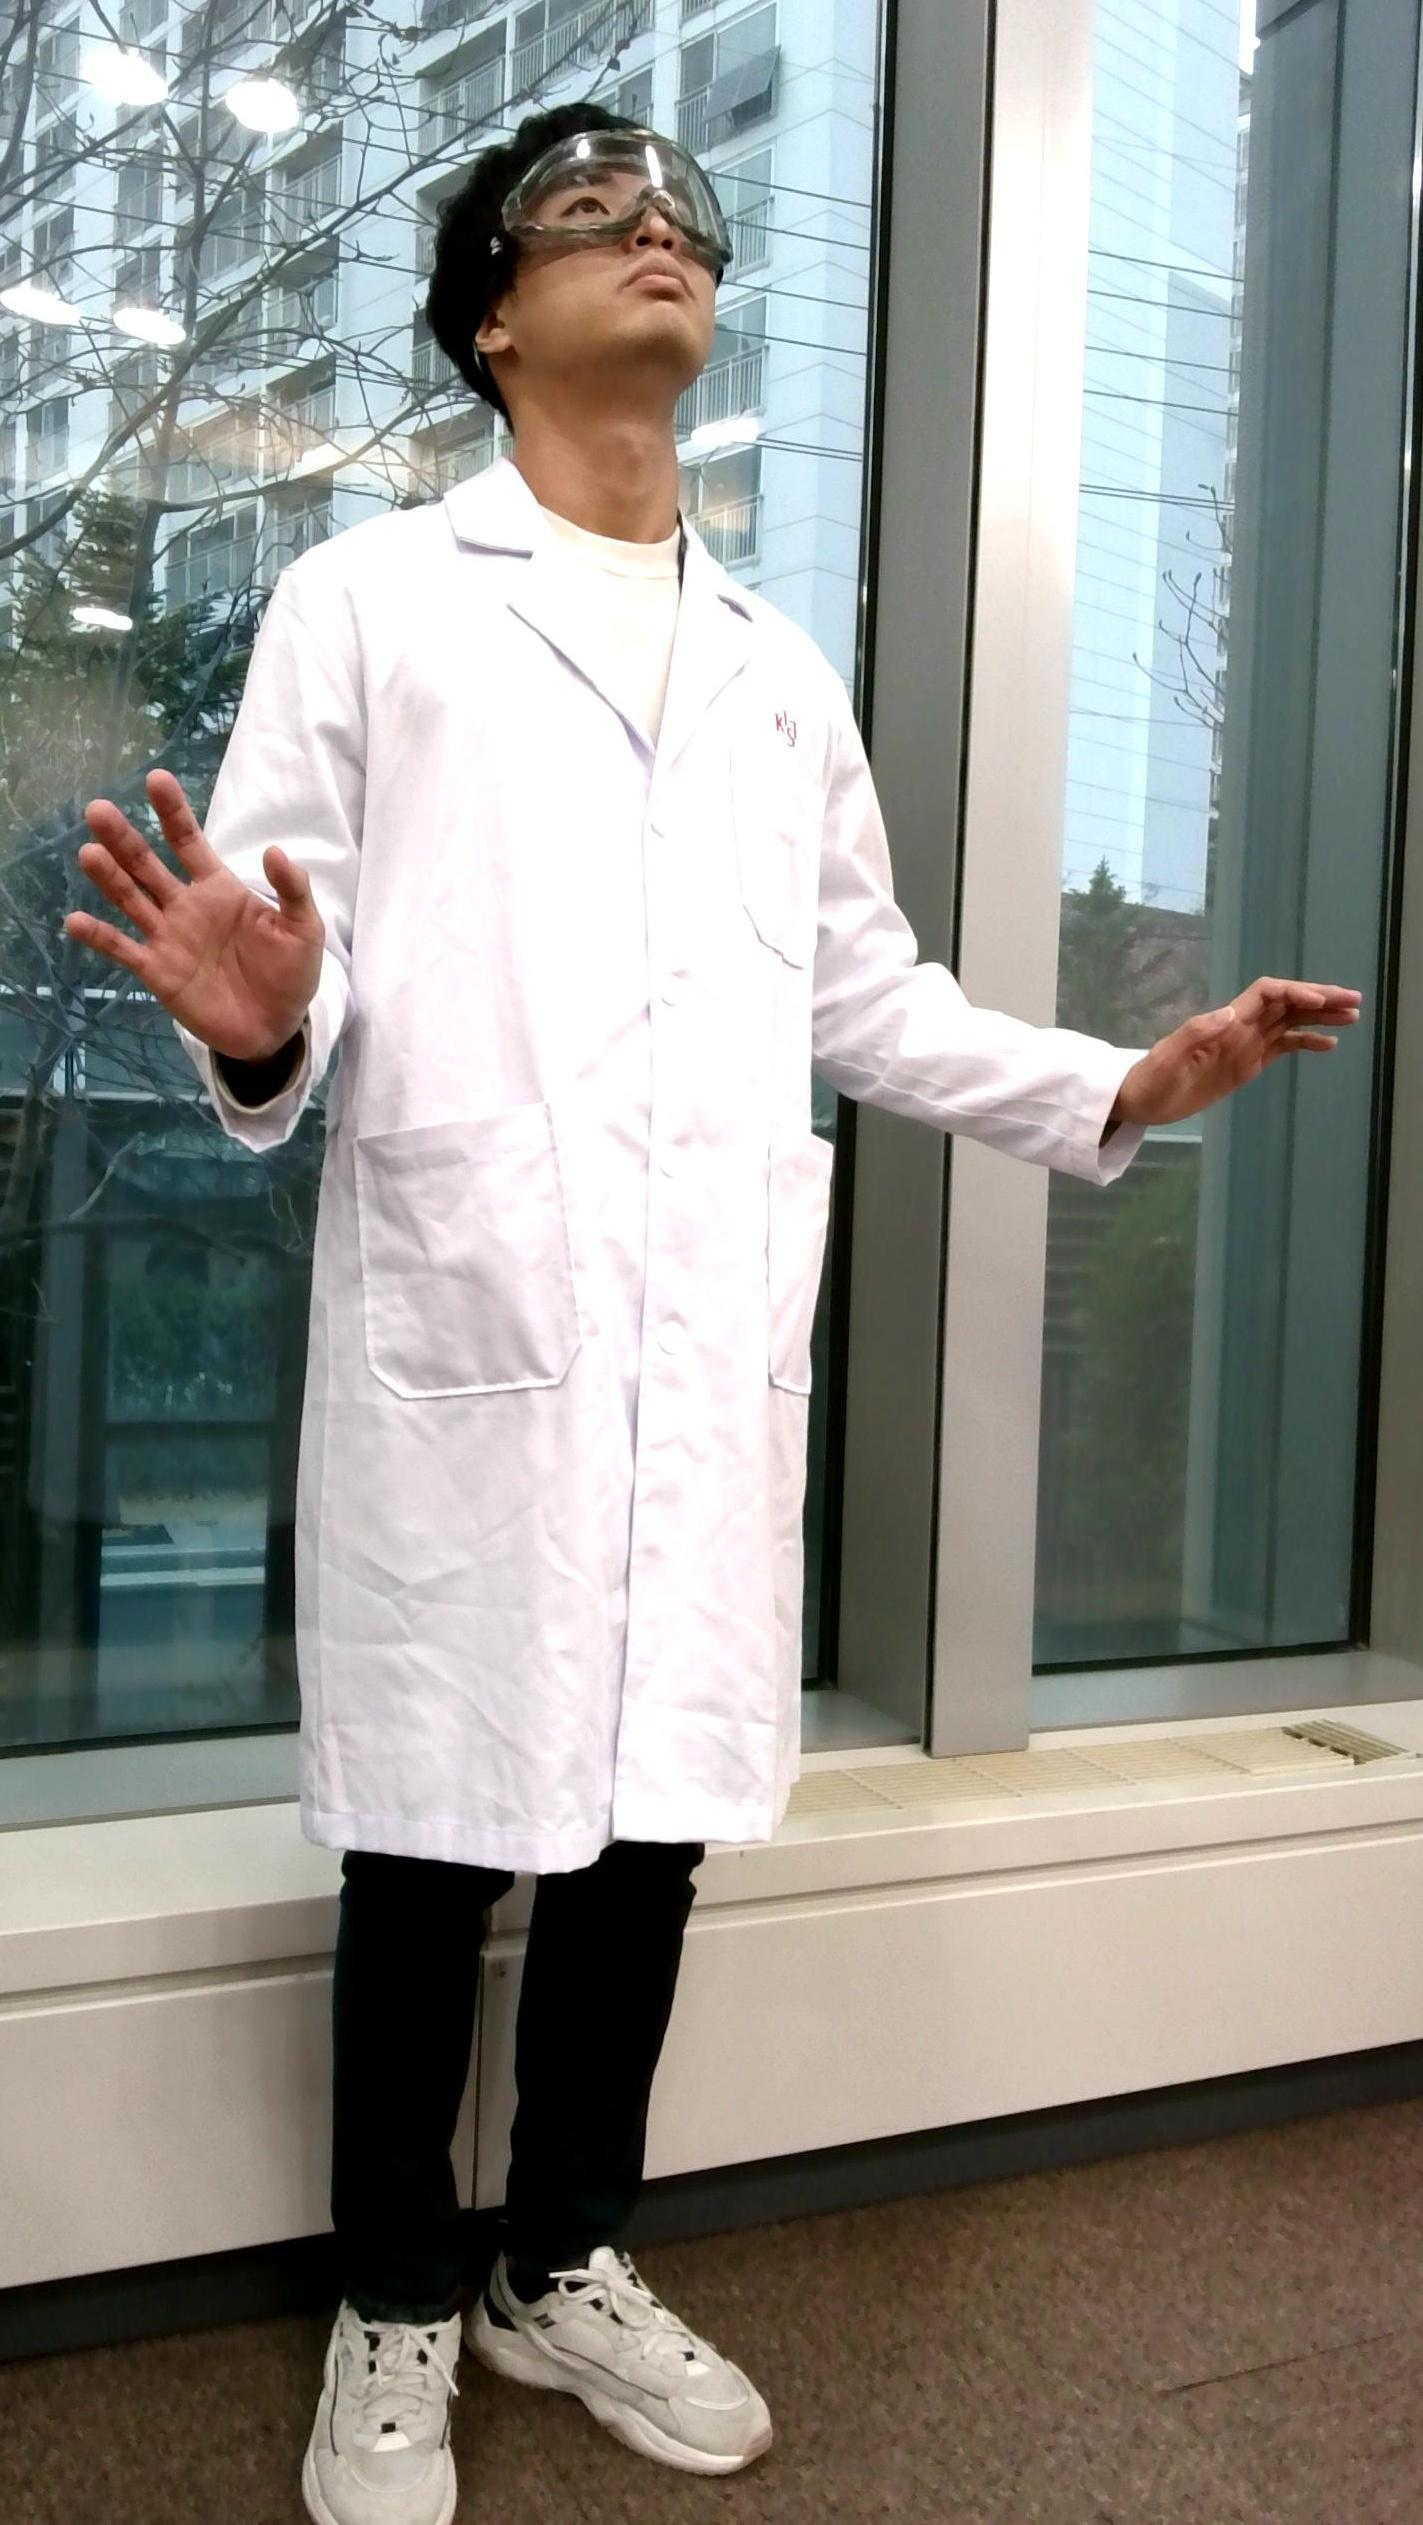lab_coat: (336, 517, 837, 1849)
